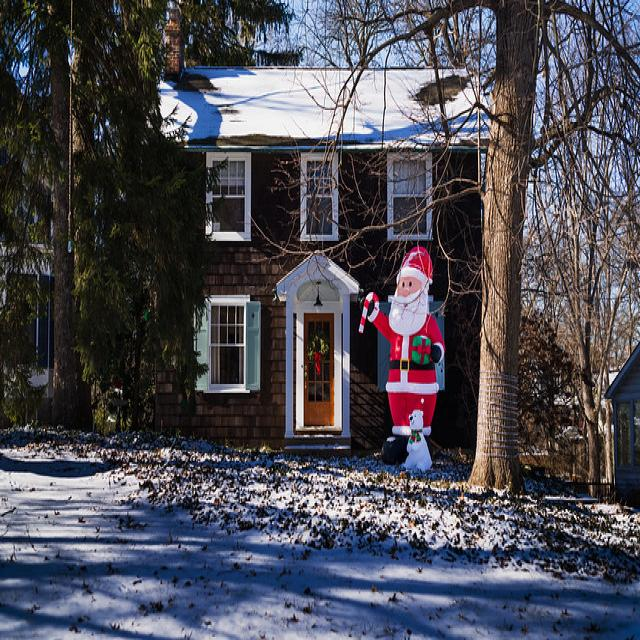building: (125, 56, 517, 467)
